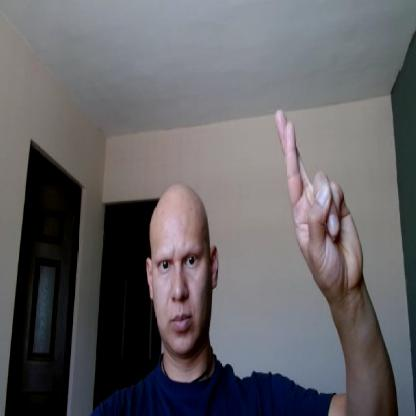R: (275, 104, 362, 292)
